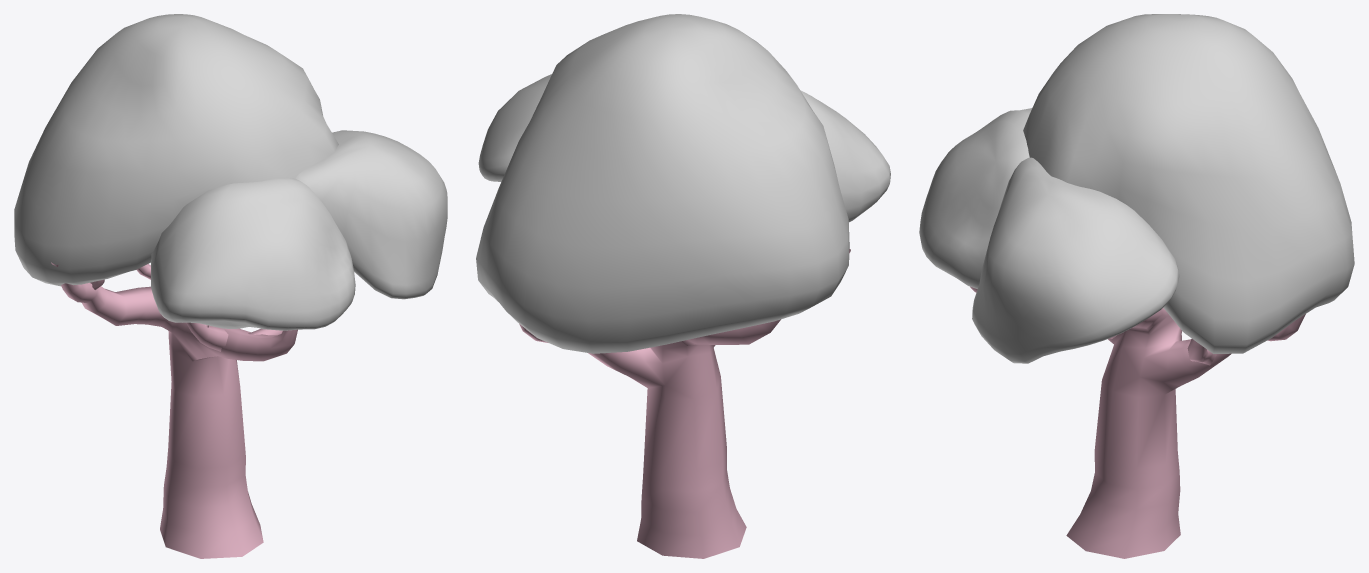
The model's file is Tree_01.fbx.
3 renders of one model, left to right at view 1: azimuth 30°, elevation 25°; view 2: azimuth 150°, elevation 25°; view 3: azimuth 270°, elevation 25°, orthographic. The views are drawn at different scales.
Parts seen in each view (by area): view 1: Tree_01L, Tree_01; view 2: Tree_01L, Tree_01; view 3: Tree_01L, Tree_01.
Boxes of the visible parts, <box> form: Tree_01L: <box>14,14,447,330</box>; Tree_01: <box>51,262,297,558</box>; Tree_01L: <box>476,14,890,353</box>; Tree_01: <box>519,249,850,558</box>; Tree_01L: <box>919,14,1354,363</box>; Tree_01: <box>970,286,1305,558</box>.
Size of the model in its own units: 2829 by 3596 by 2781.
